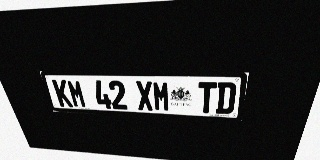2: (108, 80, 128, 110)
4: (92, 80, 113, 109)
D: (215, 82, 237, 114)
K: (52, 79, 73, 107)
M: (66, 80, 87, 108), (152, 81, 170, 111)
T: (197, 82, 217, 113)
X: (135, 81, 154, 111)
